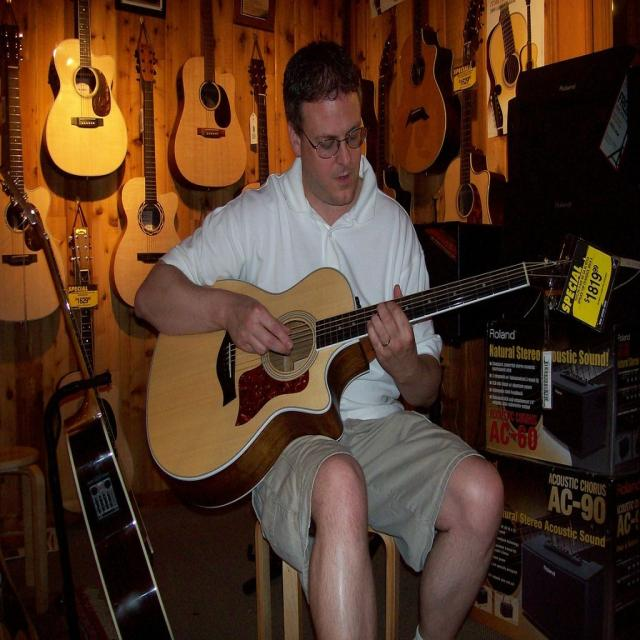guitar: (144, 250, 563, 510), (0, 169, 180, 640), (55, 220, 134, 508), (109, 42, 183, 312), (2, 24, 66, 323), (44, 0, 128, 177), (169, 0, 246, 191), (442, 0, 507, 225), (391, 2, 456, 178), (238, 58, 282, 192), (377, 33, 402, 207), (489, 1, 532, 98), (519, 0, 539, 71), (486, 87, 505, 139)
